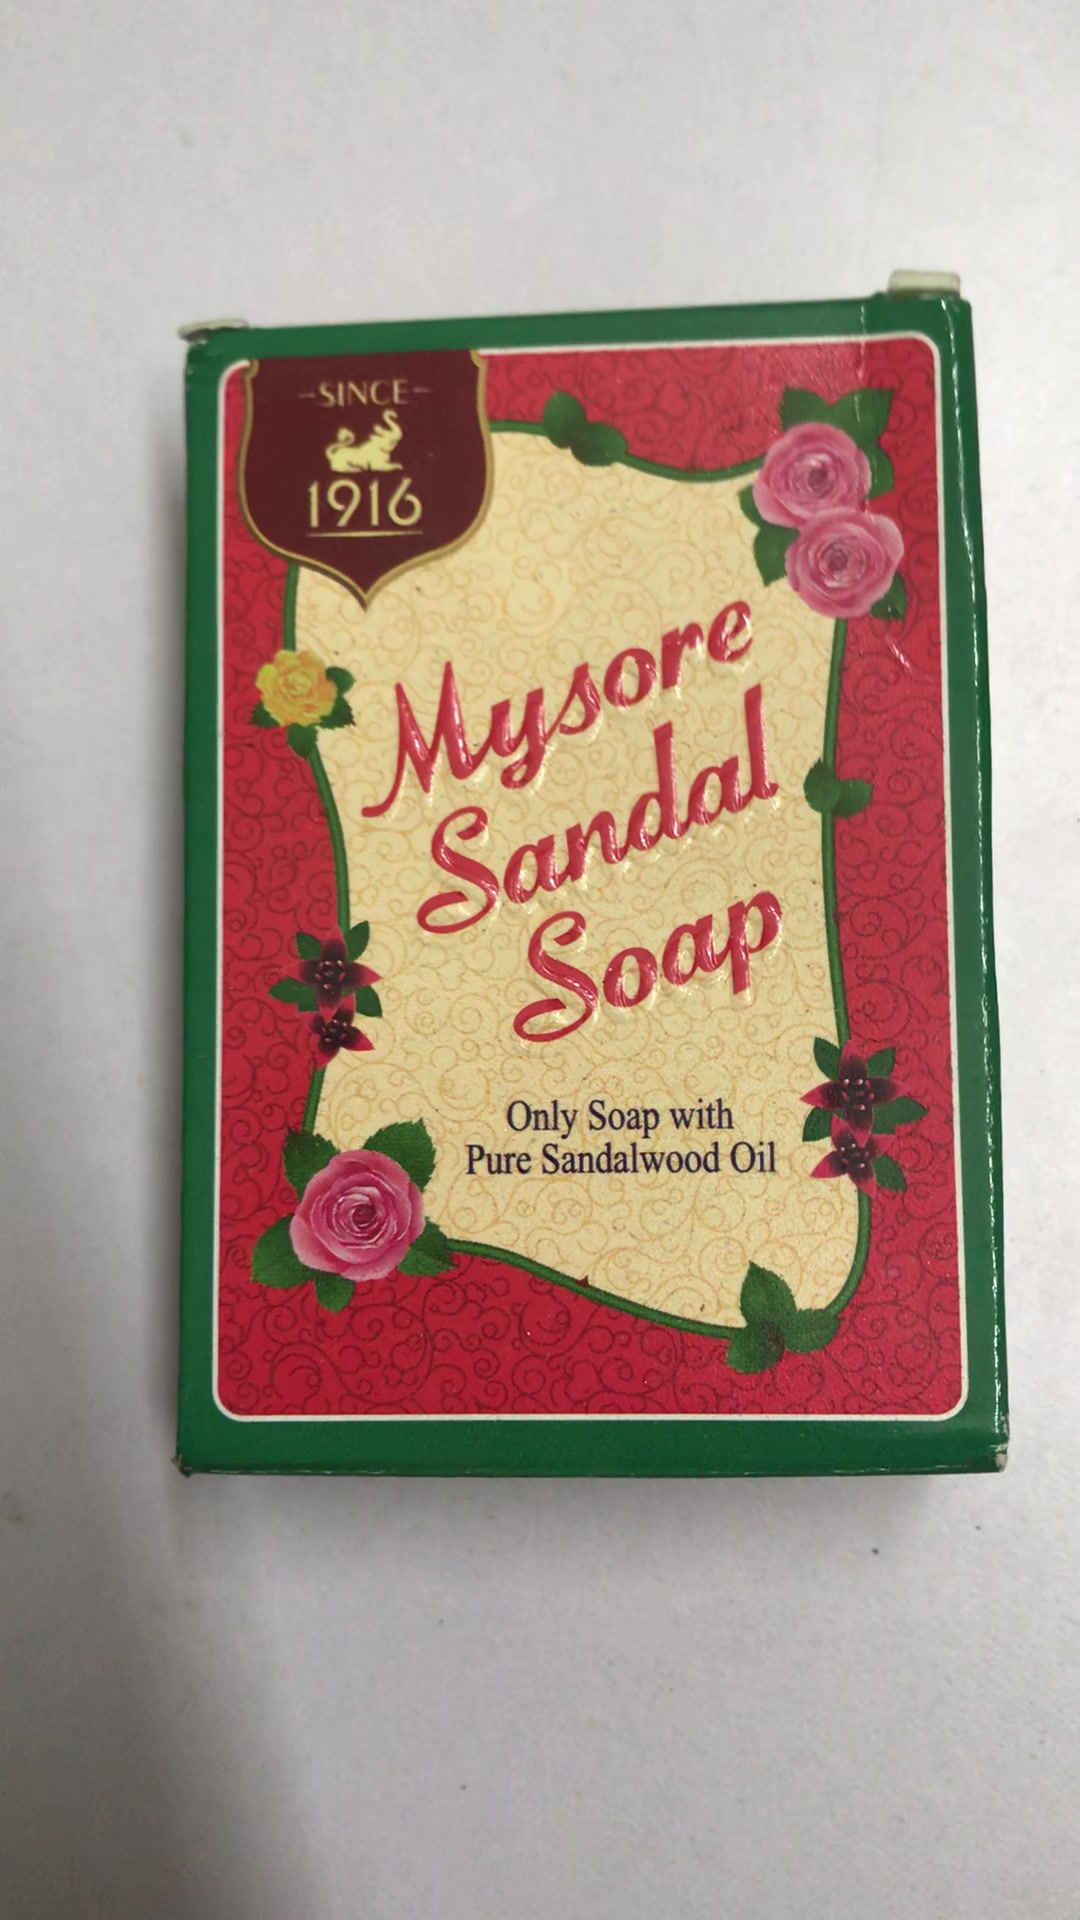mysore sandal soap: (189, 320, 1000, 1469)
